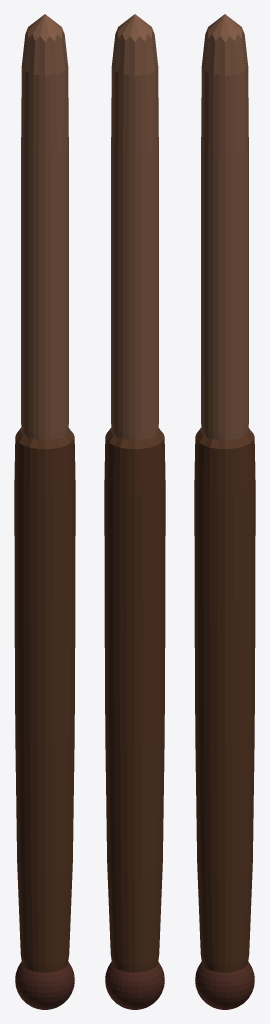
File: Wand 13.glb
3 views of the same model, side by side, from view 1: azimuth 30°, elevation 25°; view 2: azimuth 210°, elevation 25°; view 3: azimuth 330°, elevation 25° (orthographic).
Visible parts, largest first — view 1: GeneratedWand; view 2: GeneratedWand; view 3: GeneratedWand.
Boxes of the visible parts, bbox=[...] form: GeneratedWand: bbox=[14, 14, 75, 1009]; GeneratedWand: bbox=[104, 14, 165, 1009]; GeneratedWand: bbox=[194, 14, 255, 1009].
Bounding box in the file's own units: 0.0273 × 0.4897 × 0.0273.
